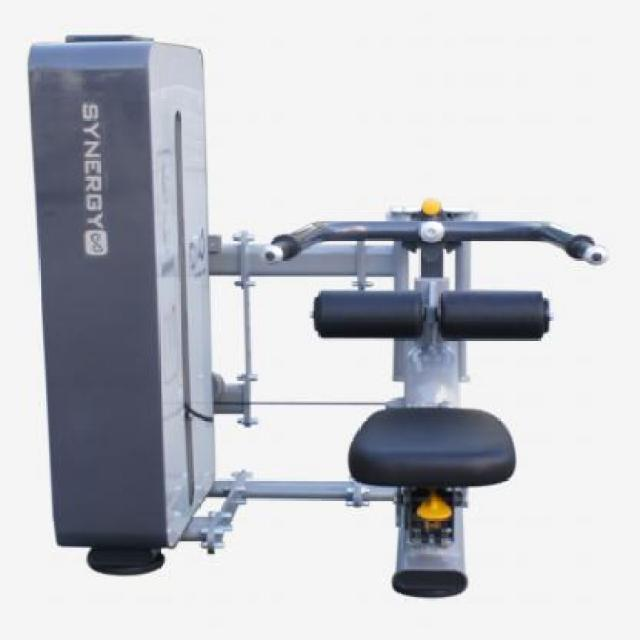seated dip machine: (25, 35, 612, 603)
